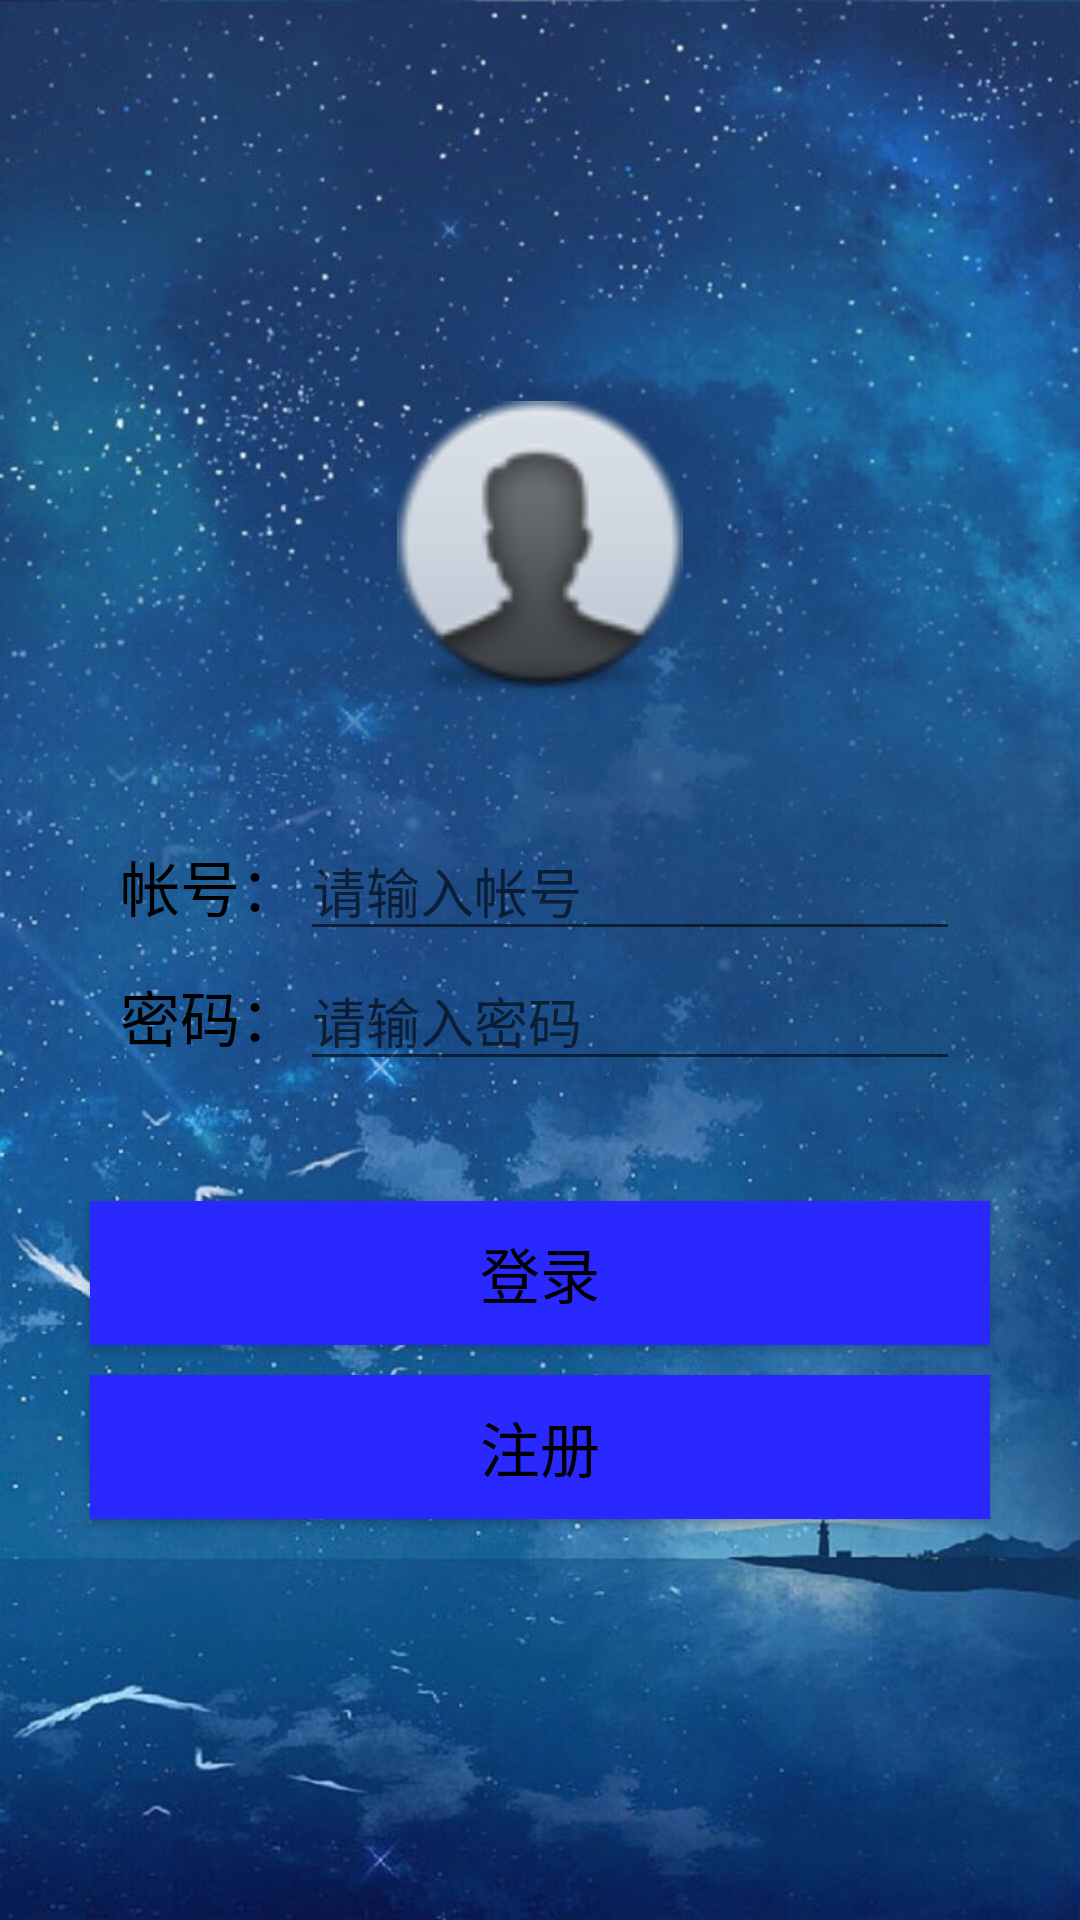

Icons on this 1080×1920 Android screen, each with the point to tap as (x=x, y=y):
user: (x=540, y=551)
